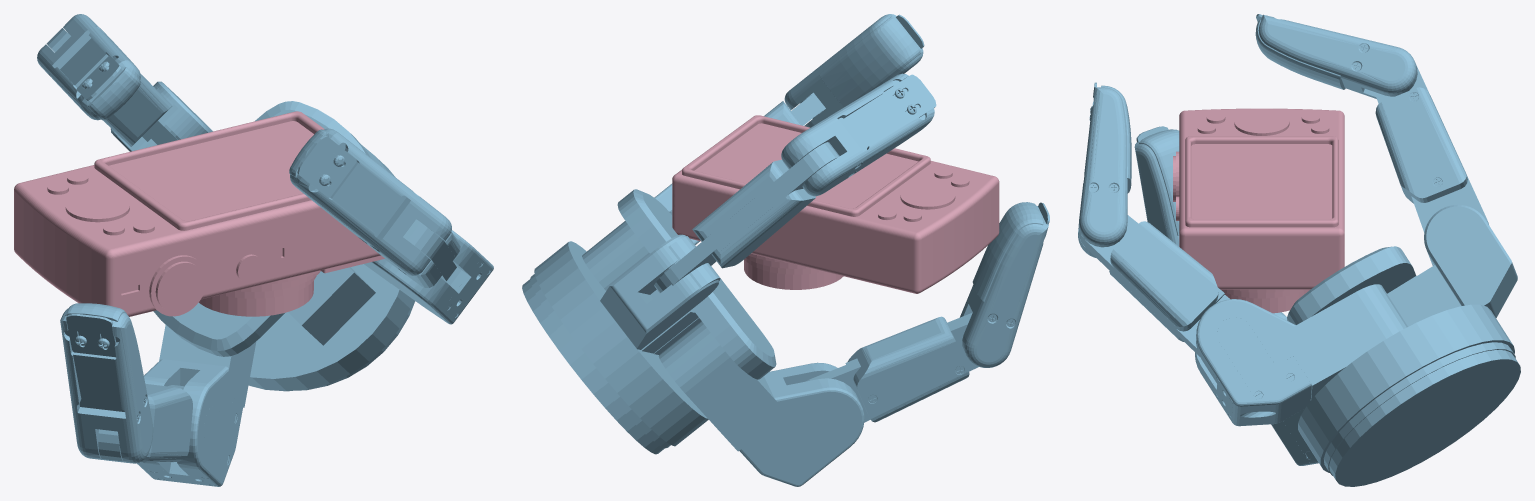
3 renders of one model, left to right at view 1: azimuth 30°, elevation 25°; view 2: azimuth 150°, elevation 25°; view 3: azimuth 270°, elevation 25°, orthographic. The views are drawn at different scales.
Visible parts, largest first — view 1: world, camera.stl; view 2: world, camera.stl; view 3: world, camera.stl.
Part boxes in pixels (<box>): world: <box>37,14,493,486</box>; camera.stl: <box>14,111,384,316</box>; world: <box>522,14,1049,486</box>; camera.stl: <box>672,115,999,293</box>; world: <box>1078,14,1520,486</box>; camera.stl: <box>1173,108,1344,313</box>.
Bounding box in the file's own units: 0.1836 × 0.1736 × 0.1732.
